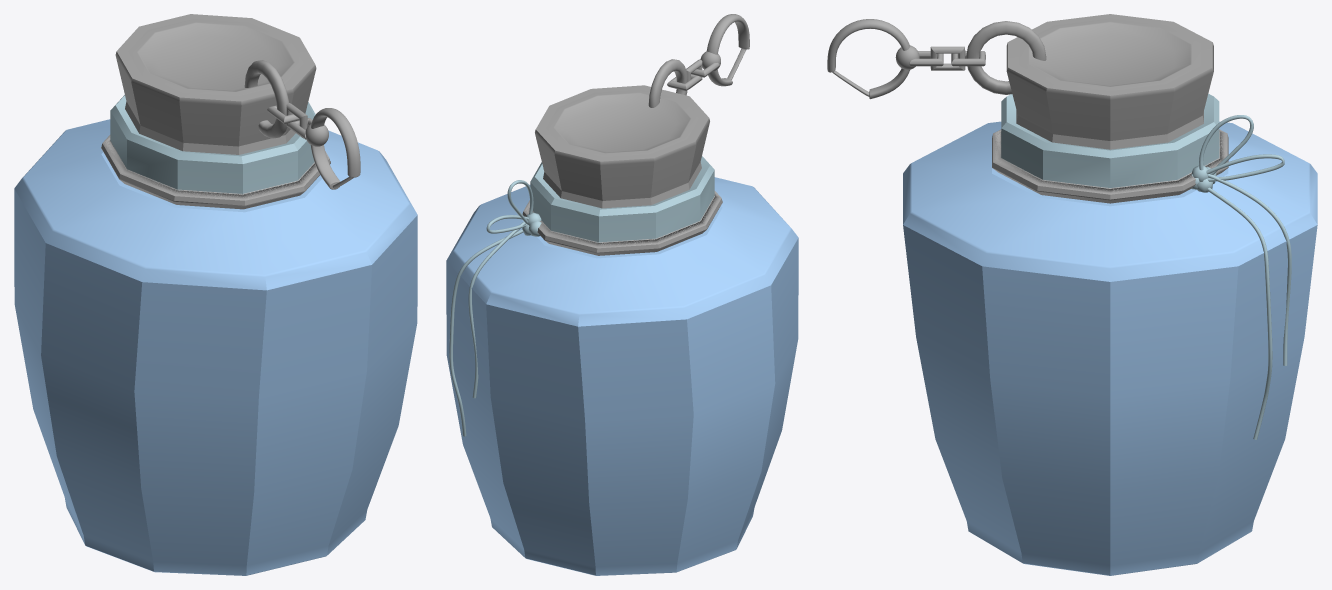
Rendered from fluffy.fbx.
3 renders of one model, left to right at view 1: azimuth 30°, elevation 25°; view 2: azimuth 150°, elevation 25°; view 3: azimuth 270°, elevation 25°, orthographic. The views are drawn at different scales.
Parts seen in each view (by area): view 1: Fluffyfinal; view 2: Fluffyfinal; view 3: Fluffyfinal.
Boxes of the visible parts, x1,y1,x2,y2 form: Fluffyfinal: [14, 14, 417, 575]; Fluffyfinal: [446, 14, 798, 575]; Fluffyfinal: [827, 14, 1317, 575].
Bounding box in the file's own units: 9.52 × 12.8 × 11.54.
